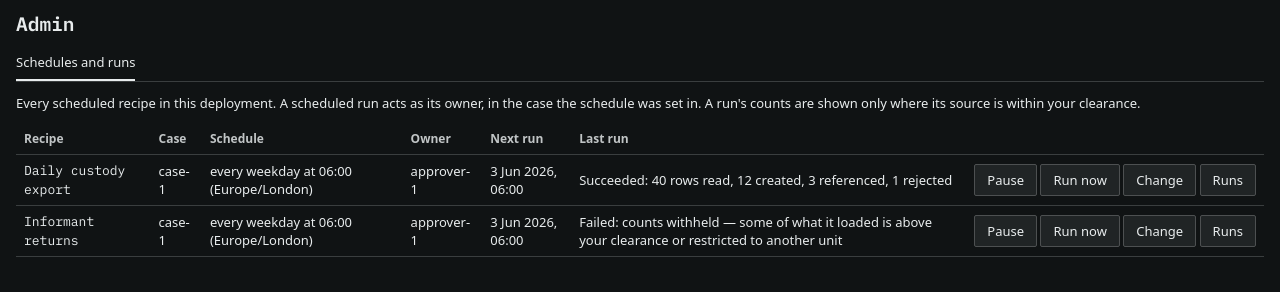
Test case: Schedules and runs › pauses and resumes a schedule, saying why it is paused
Click the button with aria-label "Pause Daily custody export" at point(1006, 180), box [974, 164, 1037, 196]
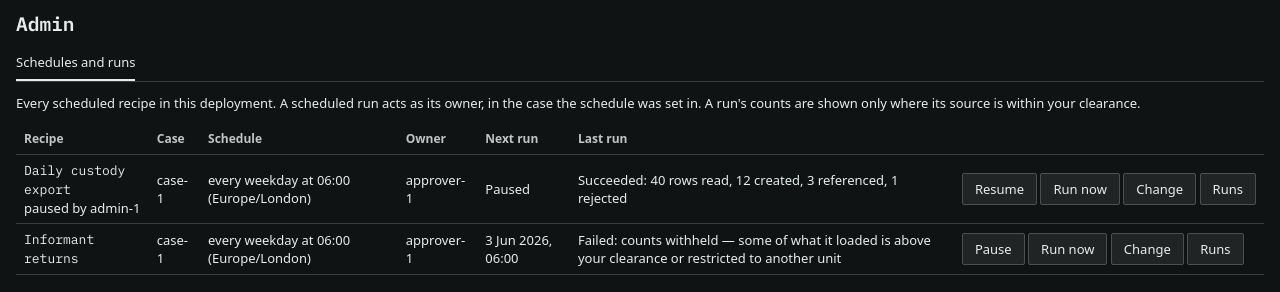
Now the text "paused by admin-1" is shown, box [24, 199, 141, 217]
Click the button with aria-label "Resume Daily custody export" at point(1000, 189), box [962, 173, 1037, 205]
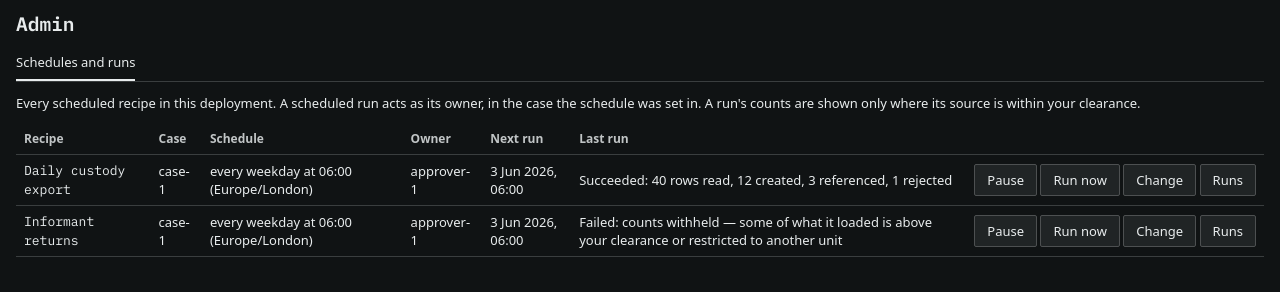
Now the button with aria-label "Pause Daily custody export" is shown, box [974, 164, 1037, 196]
